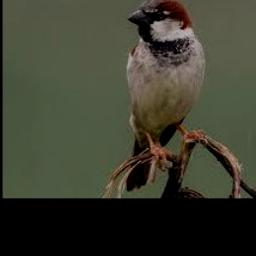Sparrow: (124, 0, 207, 191)
